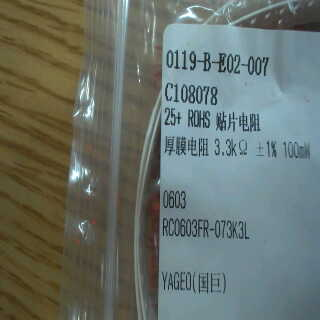3.3kO: (209, 137, 253, 161)
